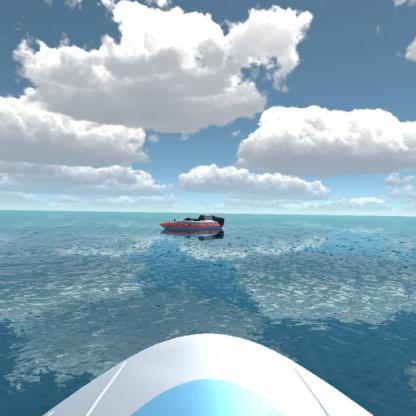usv3: (159, 209, 230, 243)
